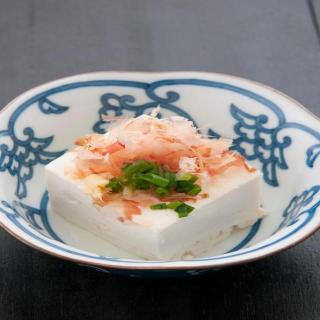Tahu: (39, 111, 278, 253)
